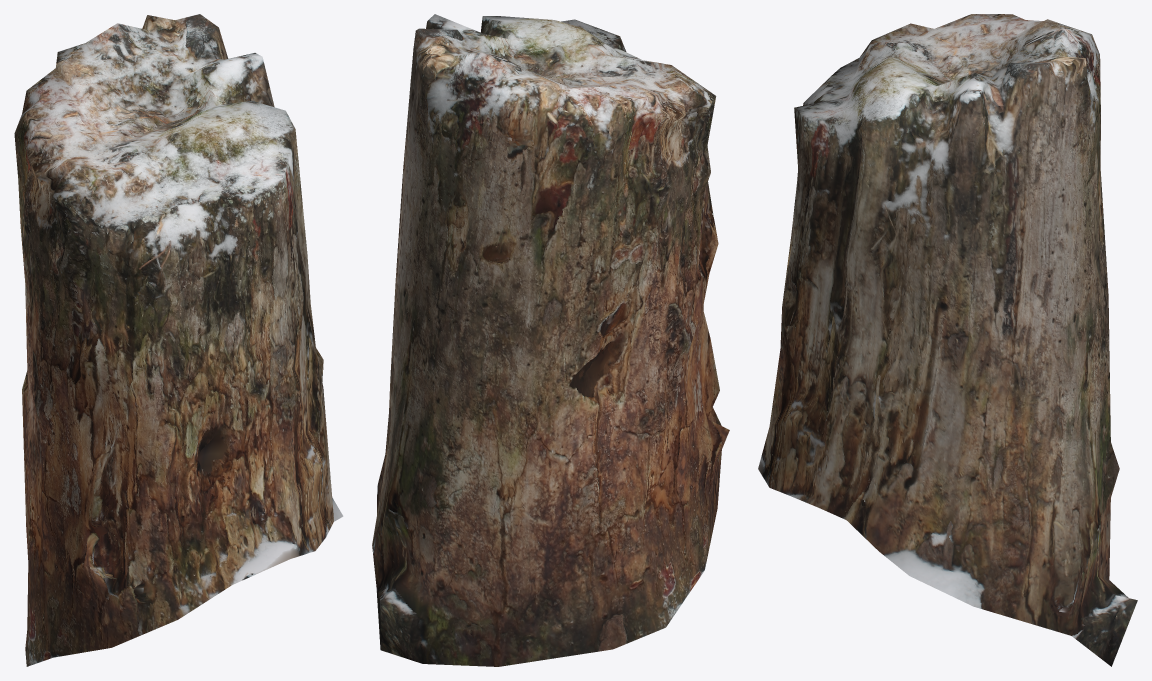
The model's file is Forest_stump_4.FBX.
The picture shows the model from 3 angles, left to right: view 1: azimuth 30°, elevation 25°; view 2: azimuth 150°, elevation 25°; view 3: azimuth 270°, elevation 25°; orthographic projection.
Parts seen in each view (by area): view 1: Forest_stump_4; view 2: Forest_stump_4; view 3: Forest_stump_4.
Part boxes in pixels (x1,y1,x2,y2): Forest_stump_4: (14, 14, 343, 666); Forest_stump_4: (372, 14, 729, 666); Forest_stump_4: (758, 14, 1137, 666).
Bounding box in the file's own units: 0.7328 × 1.42 × 0.8126.
Materials: 1 (1 with a texture image).
